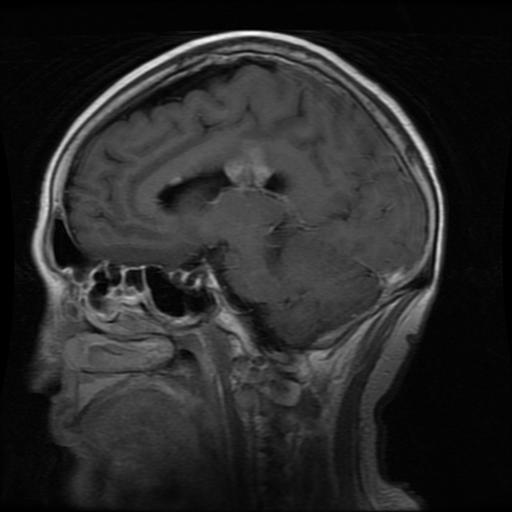Gliomia_tumour: (223, 141, 270, 189)
